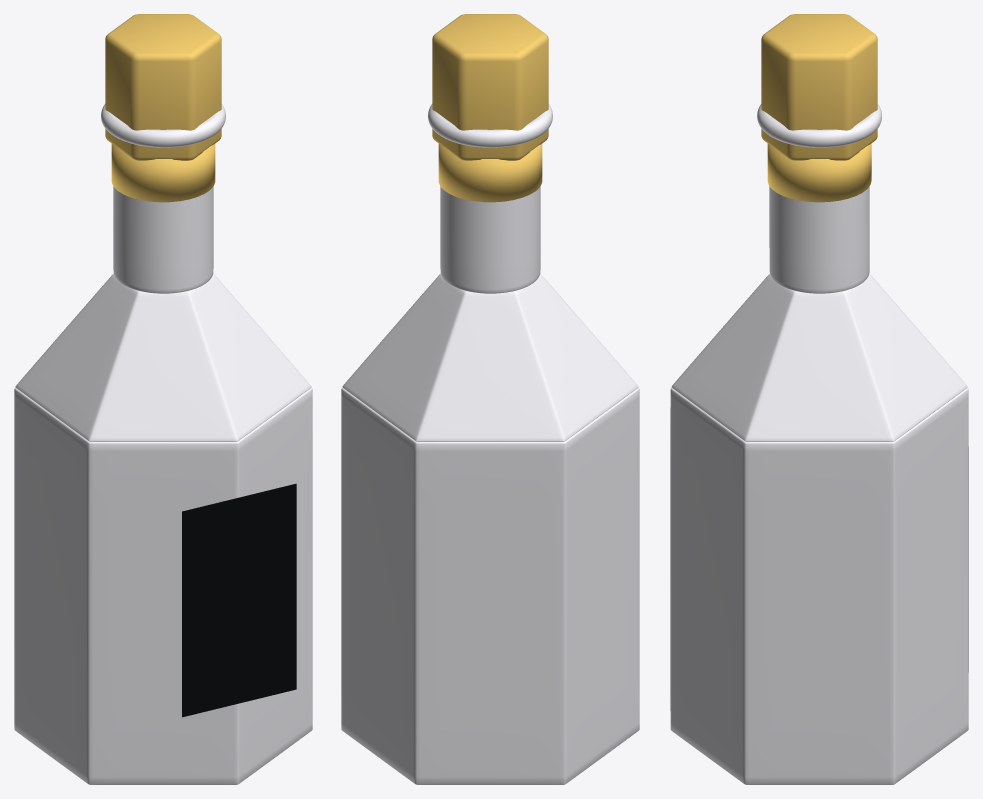
The model's file is ferabee_whisky_bottle.obj.
3 views of the same model, side by side, from view 1: azimuth 30°, elevation 25°; view 2: azimuth 150°, elevation 25°; view 3: azimuth 270°, elevation 25° (orthographic).
Parts seen in each view (by area): view 1: FeraBee_Whisky_Bottle_Glass, FeraBee_Front_Label, FeraBee_Gold_Cap, FeraBee_Neck_Gold_Band; view 2: FeraBee_Whisky_Bottle_Glass, FeraBee_Gold_Cap, FeraBee_Neck_Gold_Band; view 3: FeraBee_Whisky_Bottle_Glass, FeraBee_Gold_Cap, FeraBee_Neck_Gold_Band.
Part boxes in pixels (bbox=[...]): FeraBee_Whisky_Bottle_Glass: bbox=[14, 104, 312, 784]; FeraBee_Front_Label: bbox=[182, 483, 296, 717]; FeraBee_Gold_Cap: bbox=[105, 14, 221, 160]; FeraBee_Neck_Gold_Band: bbox=[111, 144, 215, 202]; FeraBee_Whisky_Bottle_Glass: bbox=[341, 104, 639, 784]; FeraBee_Gold_Cap: bbox=[432, 14, 548, 160]; FeraBee_Neck_Gold_Band: bbox=[438, 144, 542, 202]; FeraBee_Whisky_Bottle_Glass: bbox=[670, 104, 968, 784]; FeraBee_Gold_Cap: bbox=[761, 14, 877, 160]; FeraBee_Neck_Gold_Band: bbox=[767, 143, 871, 202].
Size of what is drawn, in the model's own units: 1.65 by 4.87 by 1.91.
